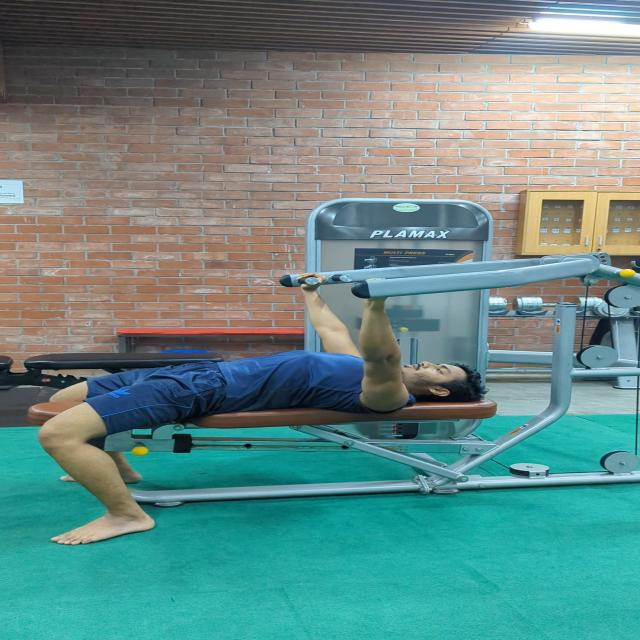Normal_BrenchPress: (28, 274, 524, 554)
